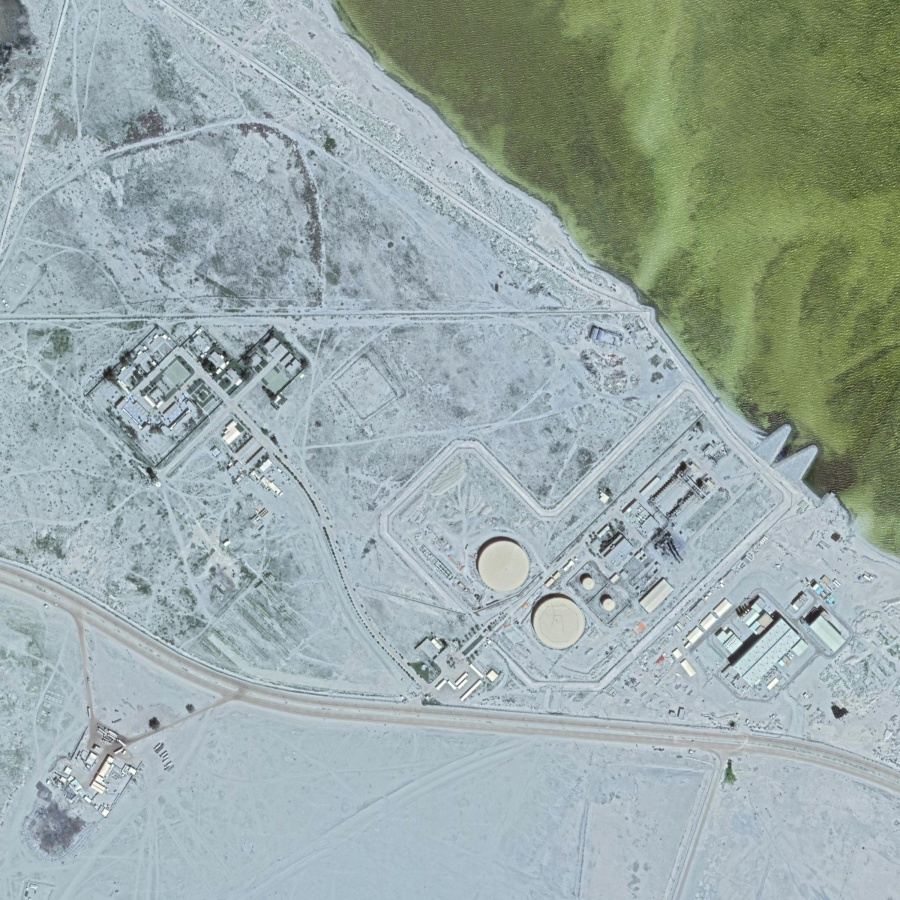PowerPlant: (455, 431, 860, 718)
